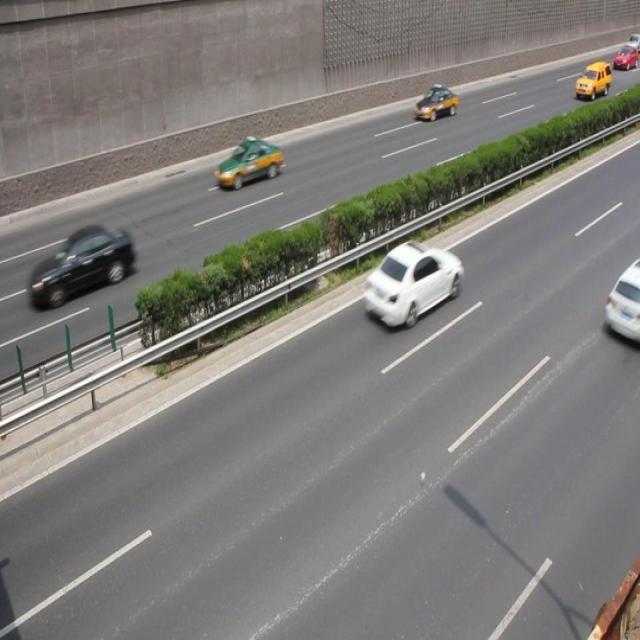car: (29, 219, 132, 311), (362, 238, 461, 328), (214, 136, 282, 189), (601, 264, 640, 340), (413, 84, 456, 122), (573, 59, 610, 101)
